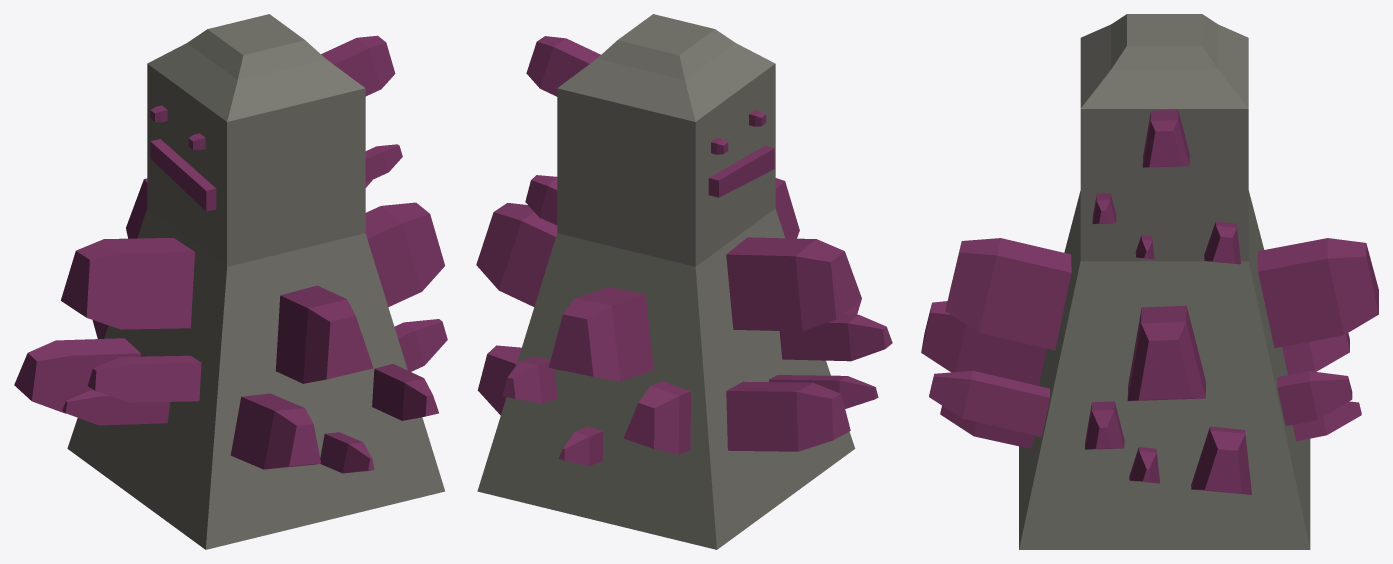
The model's file is Krab1.fbx.
The picture shows the model from 3 angles, left to right: view 1: azimuth 30°, elevation 25°; view 2: azimuth 150°, elevation 25°; view 3: azimuth 270°, elevation 25°; orthographic projection. The views are drawn at different scales.
Visible parts, largest first — view 1: Cube.032; view 2: Cube.032; view 3: Cube.032.
Part boxes in pixels (x1,y1,x2,y2): Cube.032: (14,14,447,549); Cube.032: (476,14,892,549); Cube.032: (921,14,1378,549).
Bounding box in the file's own units: 1.06 × 1.15 × 1.04.
